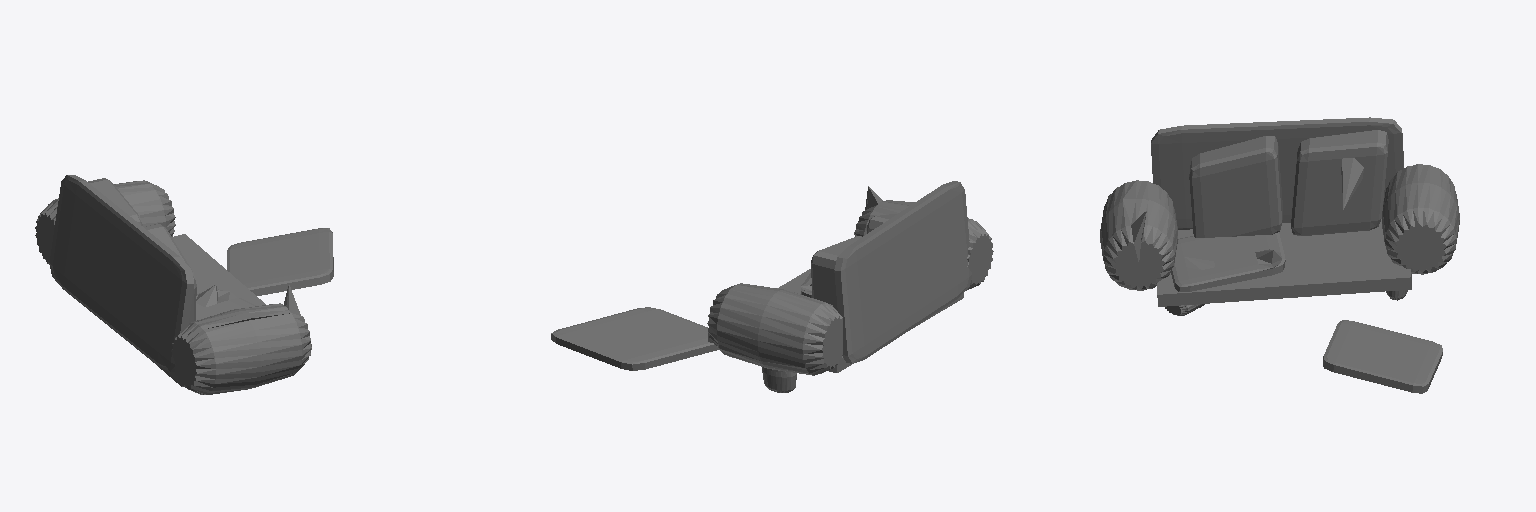
File: couch.obj
The picture shows the model from 3 angles: view 1: azimuth 30°, elevation 25°; view 2: azimuth 150°, elevation 25°; view 3: azimuth 270°, elevation 25°; orthographic projection.
Parts seen in each view (by area): view 1: couch; view 2: couch; view 3: couch.
Part boxes in pixels (bbox=[...]): couch: bbox=[35, 175, 333, 394]; couch: bbox=[551, 181, 993, 392]; couch: bbox=[1100, 117, 1459, 393].
Size of the model in its own units: 14.13 by 6.89 by 15.18.